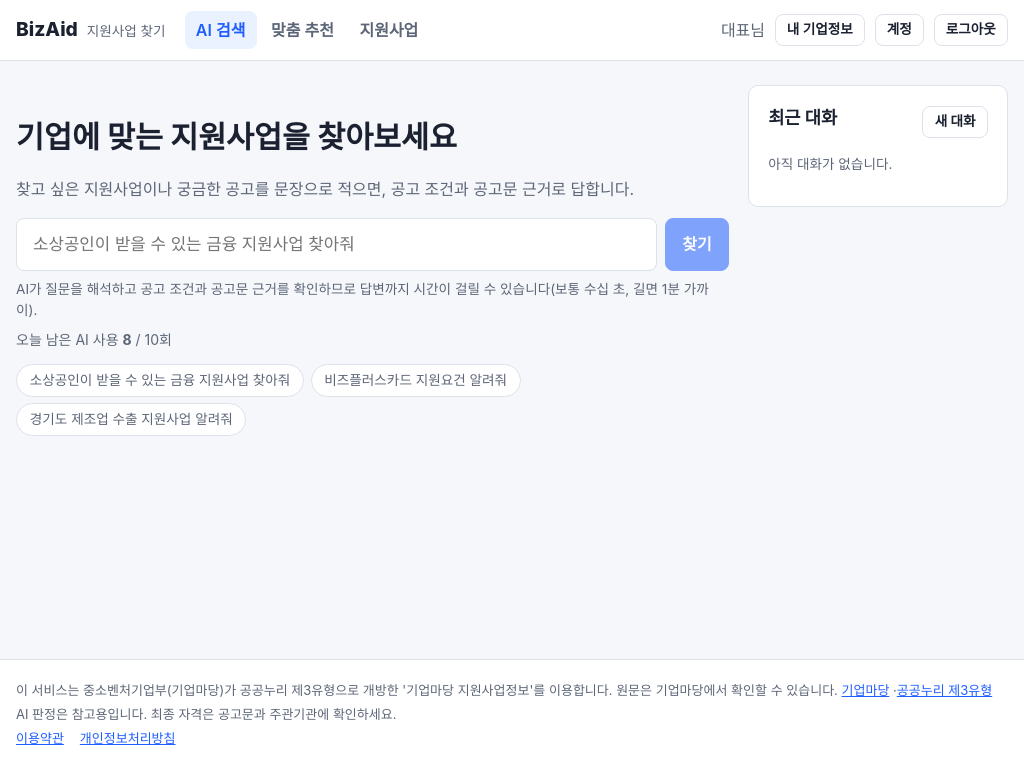
Scenario: AI 검색의 기업 지역 적용 및 타지역 공고 안내를 서버 결과 그대로 표시한다
Type "인천 공고 요건" into the field named "지원사업 질문" at (337, 244), box [16,218,657,271]
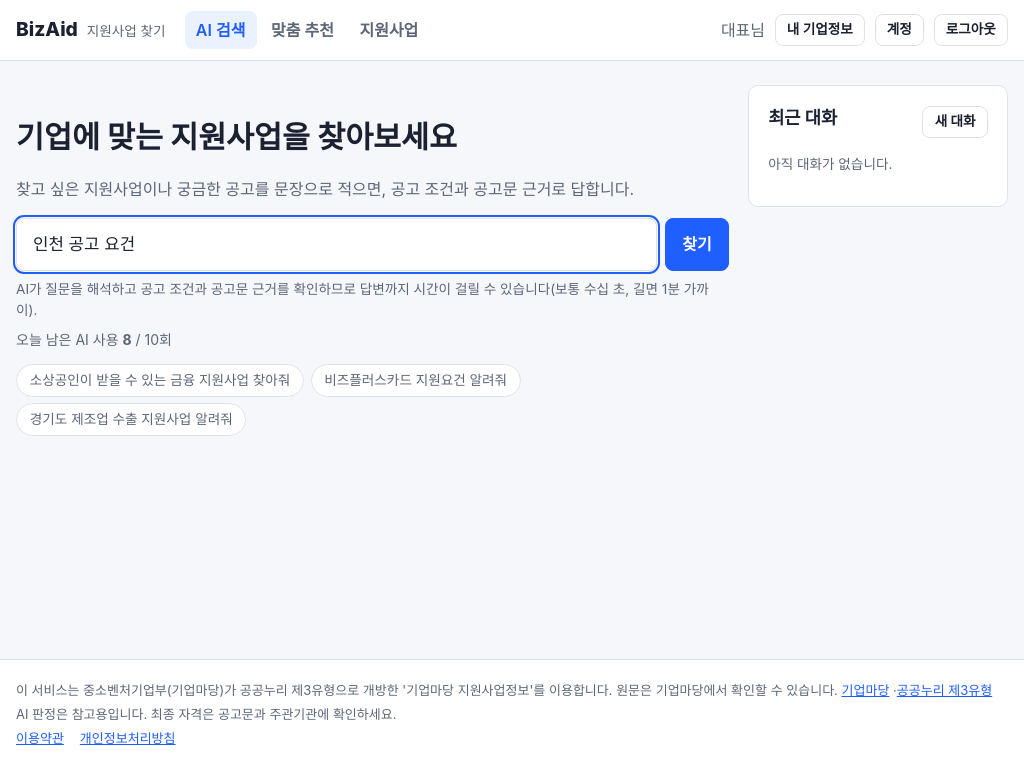
Click the button "찾기" at (697, 244), box [665,218,729,271]
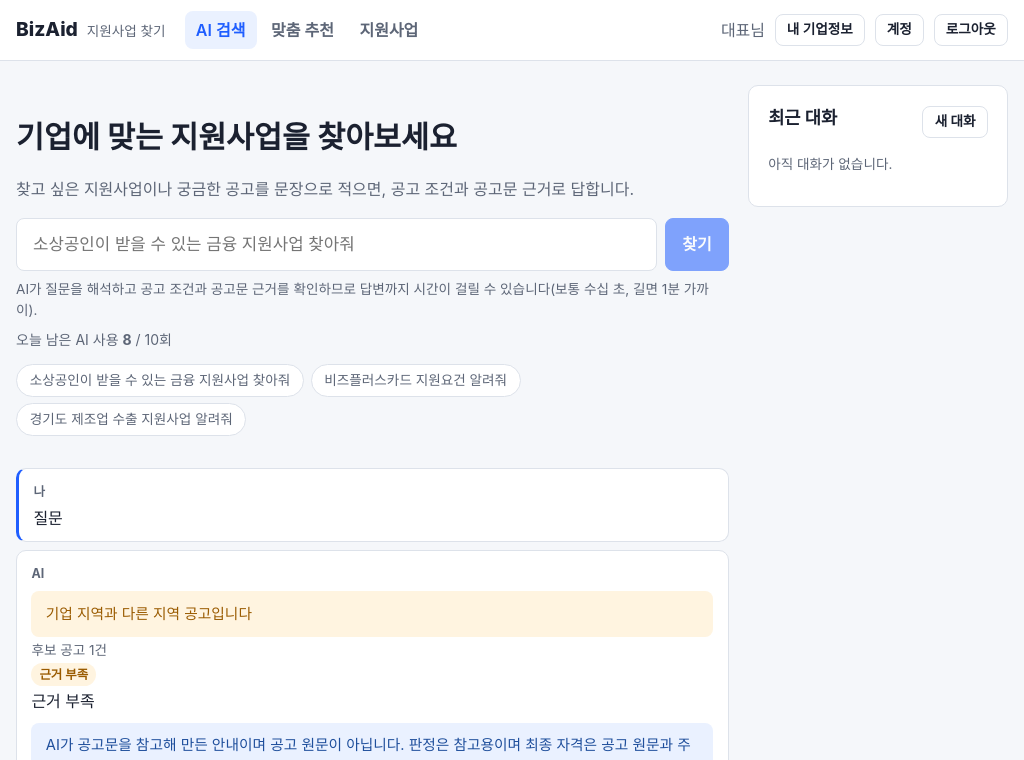
Now the text "기업 지역과 다른 지역 공고입니다" is shown, box [31,591,713,636]
